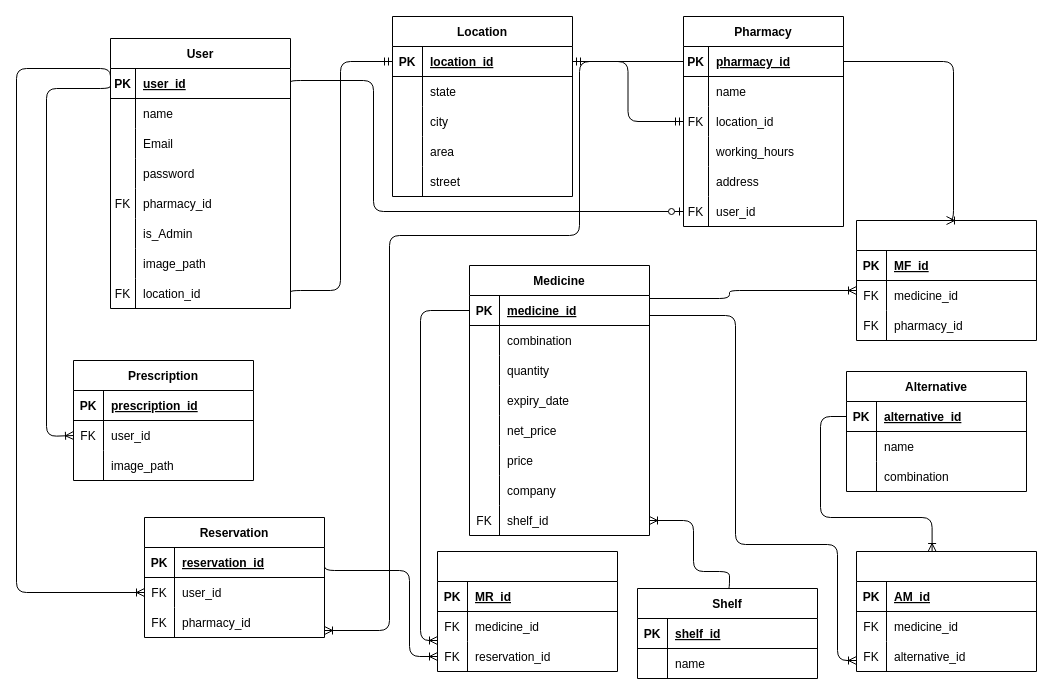
Some shapes in this 1053 by 695 pixel diagram are drawn without their labels. The box of each missing label's shape, as (x1, y1, x2, y2) in pixels:
AlternativeMedicine: (856, 550, 1036, 672)
MedicinePharmacy: (856, 220, 1036, 340)
MedicineReservation: (436, 550, 618, 672)
